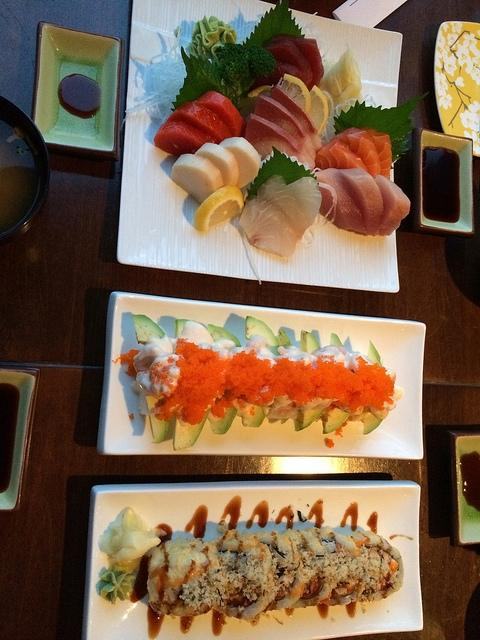avocado: (172, 319, 211, 451), (132, 314, 170, 444), (242, 316, 280, 427), (208, 324, 242, 435), (321, 332, 350, 434), (279, 330, 292, 424), (294, 406, 326, 432), (300, 331, 320, 353), (368, 339, 382, 368), (364, 412, 382, 434)
lemon: (194, 184, 244, 232), (280, 74, 312, 115), (309, 85, 329, 136), (248, 85, 274, 98)
